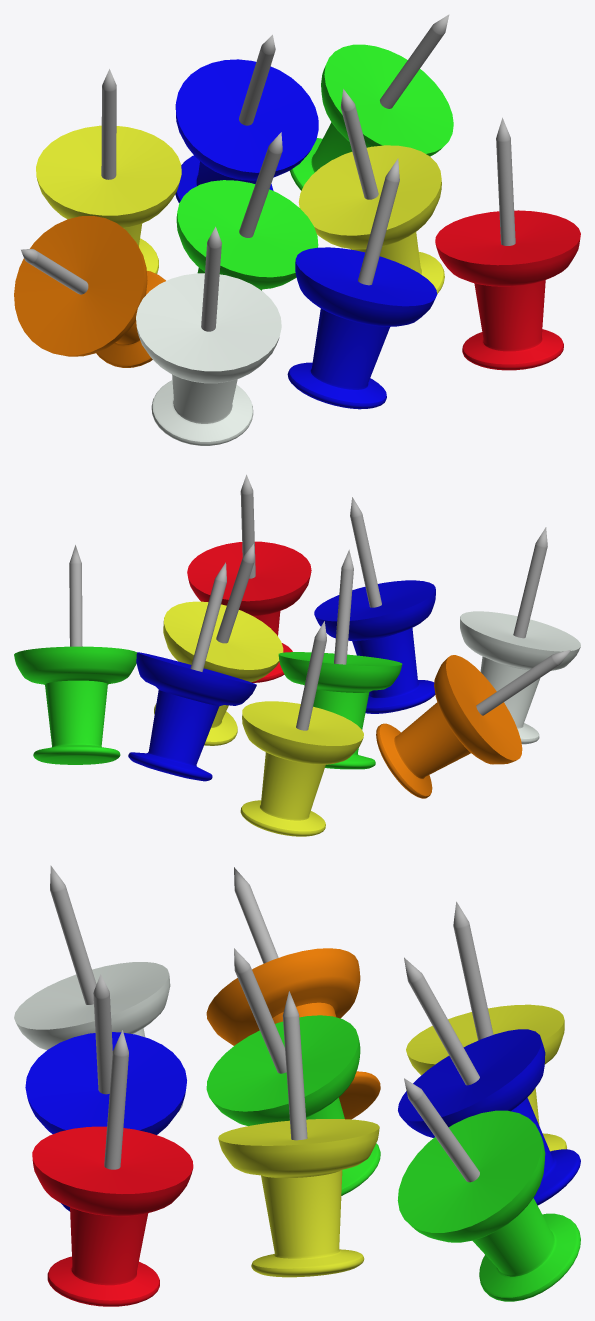
The model's file is trap_office 1.fbx.
3 views of the same model, one above another, from view 1: azimuth 30°, elevation 25°; view 2: azimuth 150°, elevation 25°; view 3: azimuth 270°, elevation 25° (orthographic). The views are drawn at different scales.
Visible parts, largest first — view 1: trap_office 1; view 2: trap_office 1; view 3: trap_office 1.
Boxes of the visible parts, <box> form: trap_office 1: <box>14,14,580,445</box>; trap_office 1: <box>14,474,580,836</box>; trap_office 1: <box>14,865,580,1306</box>.
Bounding box in the file's own units: 474 × 216 × 392.
